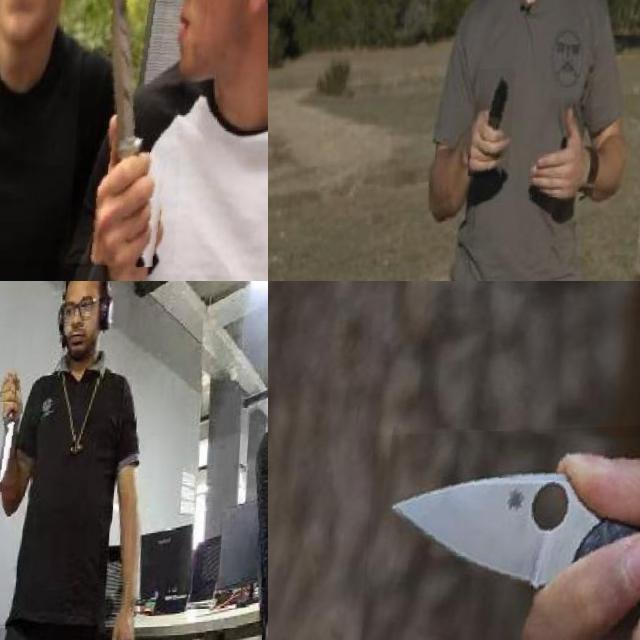-: (360, 423, 640, 640), (74, 0, 196, 270), (476, 70, 520, 180), (0, 404, 27, 494)
